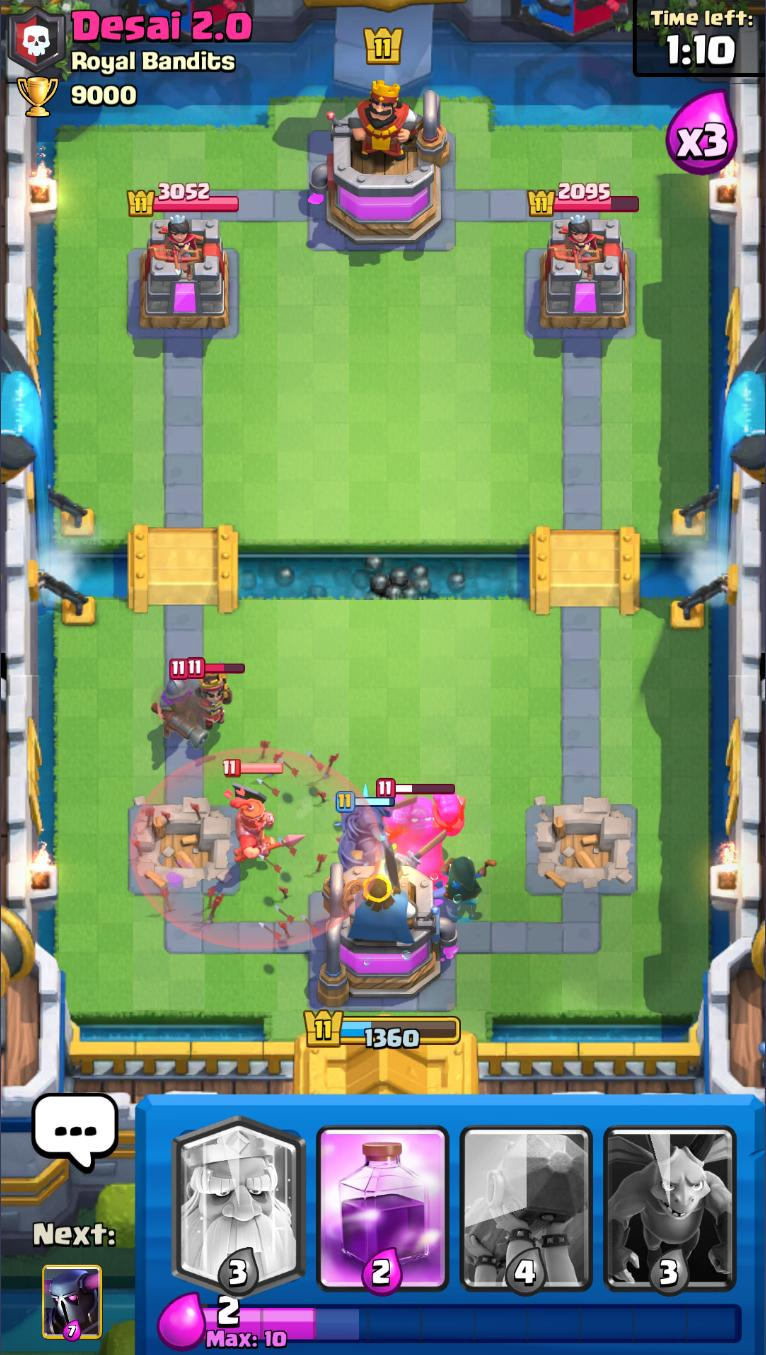Arrows: (133, 744, 379, 949)
BattleRamDeck: (455, 1096, 598, 1299)
Elixir: (202, 1295, 743, 1351)
ElixirGolem: (374, 778, 466, 876)
EnemyTower: (536, 215, 633, 333), (136, 215, 231, 333)
KingTower: (310, 77, 453, 248)
LittlePrince: (188, 657, 248, 730)
MinionsDeck: (598, 1094, 743, 1296)
Musketeer: (151, 658, 212, 743)
MyBandit: (441, 854, 497, 904)
MyKingHP: (302, 1006, 462, 1050)
MyKingTower: (316, 858, 459, 1009)
MyPekka: (332, 790, 446, 869)
MyPrincessTowerBrocken: (524, 801, 639, 900), (127, 801, 241, 896)
PekkaNext: (42, 1264, 104, 1342)
PrincessTower: (550, 214, 605, 276), (151, 215, 206, 275)
RageDeck: (312, 1096, 456, 1297)
RoyalRecruit: (219, 757, 306, 865)
RoyaleGhostDeck: (167, 1095, 312, 1295)
TowerPrincessHP: (527, 180, 641, 217), (126, 182, 240, 219)
